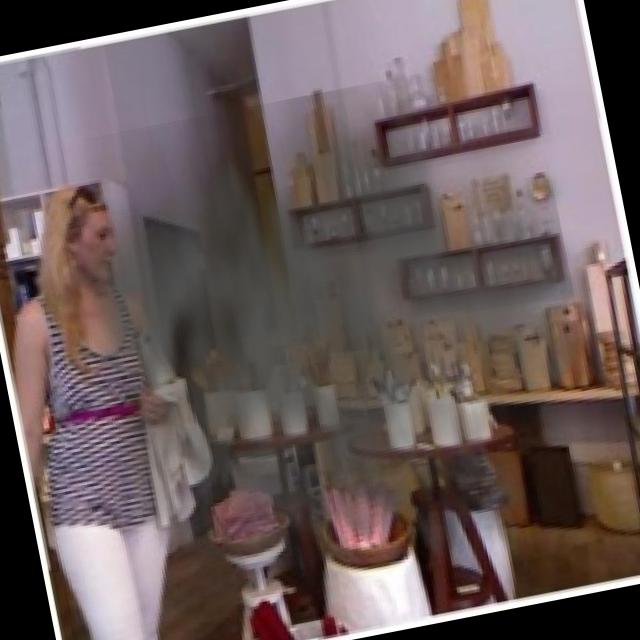Smoke: (16, 52, 633, 640)
